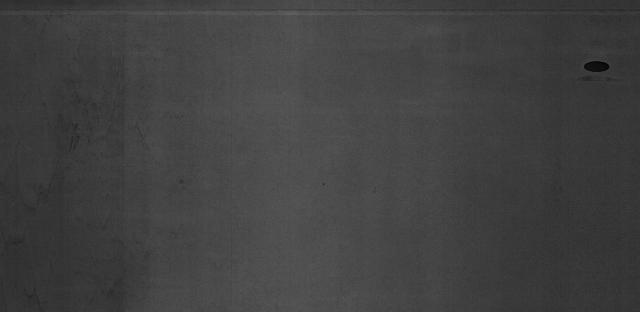punching_hole: (581, 57, 613, 74)
silk_spot: (11, 46, 147, 210)
welding_line: (3, 4, 635, 22)
